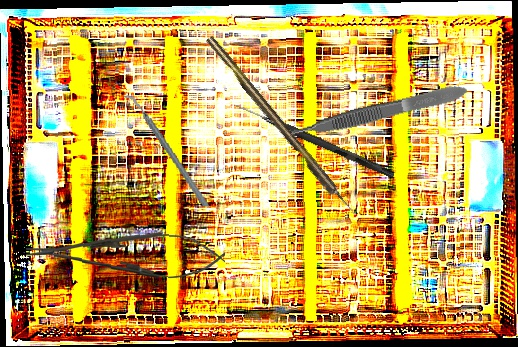Chopper: (122, 84, 210, 218)
Hook Surgical: (204, 34, 359, 220), (234, 102, 396, 179)
Needle Holder: (25, 227, 226, 281)
Tissue Forceps: (279, 81, 470, 144)
